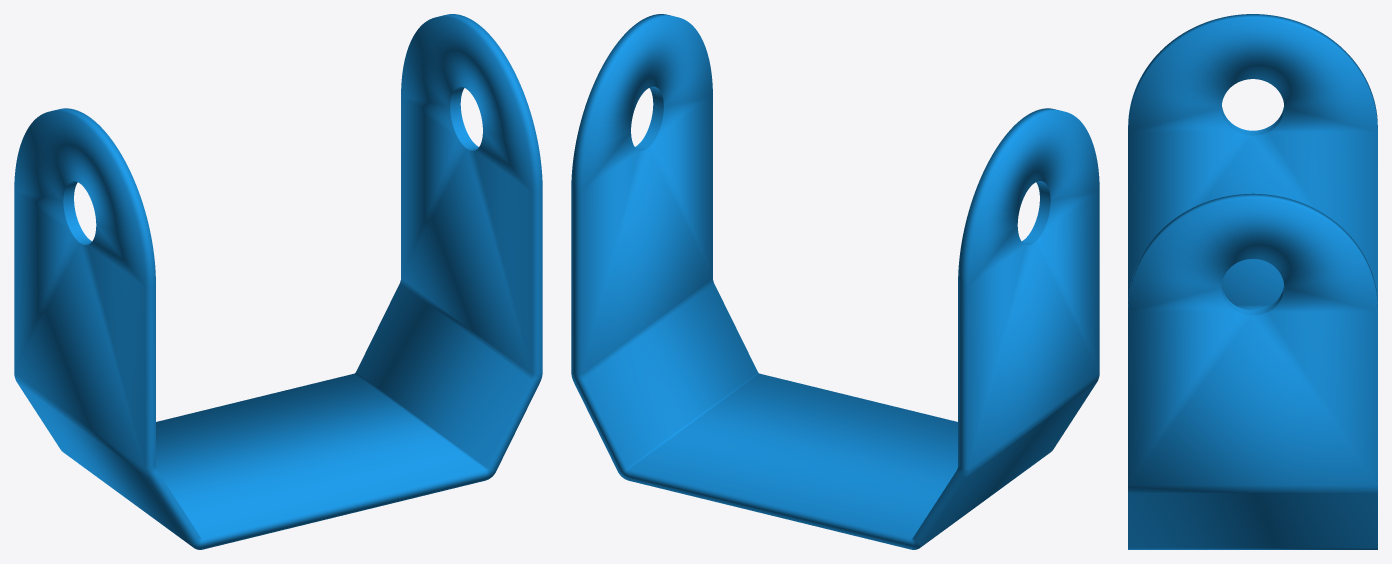
File: upperarm_lower.dae
The picture shows the model from 3 angles, left to right: view 1: azimuth 30°, elevation 25°; view 2: azimuth 150°, elevation 25°; view 3: azimuth 270°, elevation 25°; orthographic projection. The views are drawn at different scales.
Visible parts, largest first — view 1: upperarm_lower; view 2: upperarm_lower; view 3: upperarm_lower.
Part boxes in pixels (x1,y1,x2,y2): upperarm_lower: (14,14,542,549); upperarm_lower: (571,14,1099,549); upperarm_lower: (1128,14,1377,549).
Size of the model in its own units: 56 by 32 by 53.25.
